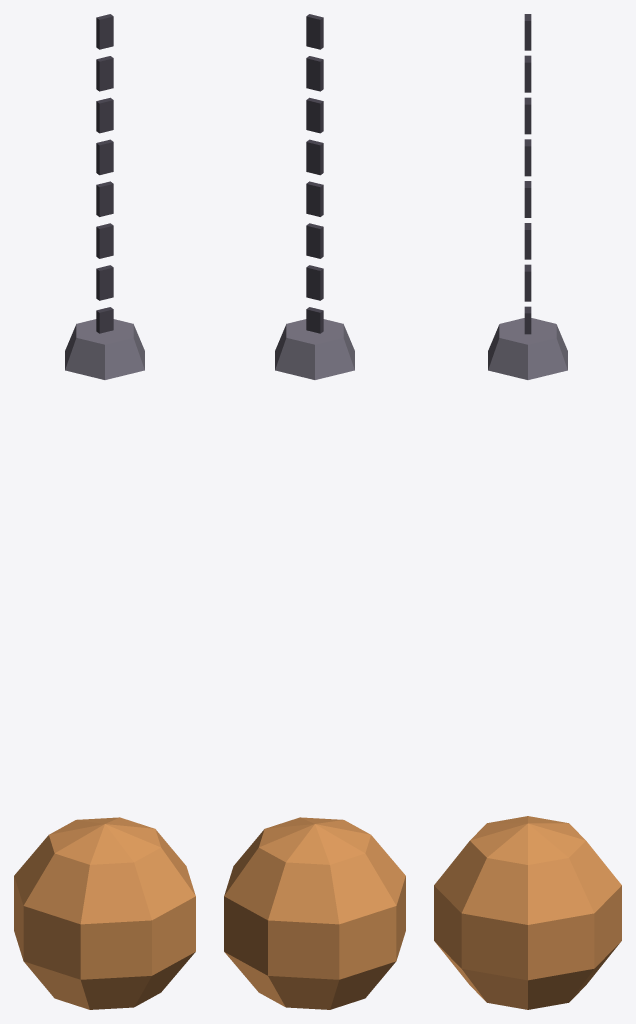
The model's file is amber_orb_chain.glb.
3 views of the same model, side by side, from view 1: azimuth 30°, elevation 25°; view 2: azimuth 150°, elevation 25°; view 3: azimuth 270°, elevation 25° (orthographic).
Visible parts, largest first — view 1: amber_orb_chain; view 2: amber_orb_chain; view 3: amber_orb_chain.
Part boxes in pixels (x1,y1,x2,y2): amber_orb_chain: (14,14,195,1009); amber_orb_chain: (224,14,405,1009); amber_orb_chain: (434,14,621,1009).
Size of the model in its own units: 0.5706 by 3.3 by 0.5706.
